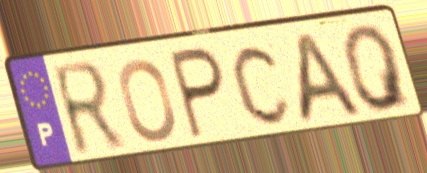A: (296, 28, 367, 128)
C: (229, 41, 295, 129)
O: (116, 55, 179, 145)
P: (166, 44, 227, 143)
Q: (339, 21, 416, 115)
R: (47, 57, 130, 163)
